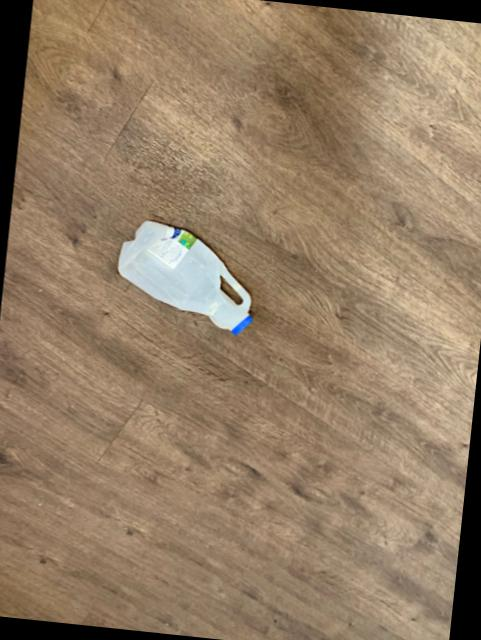plastic: (119, 220, 252, 333)
